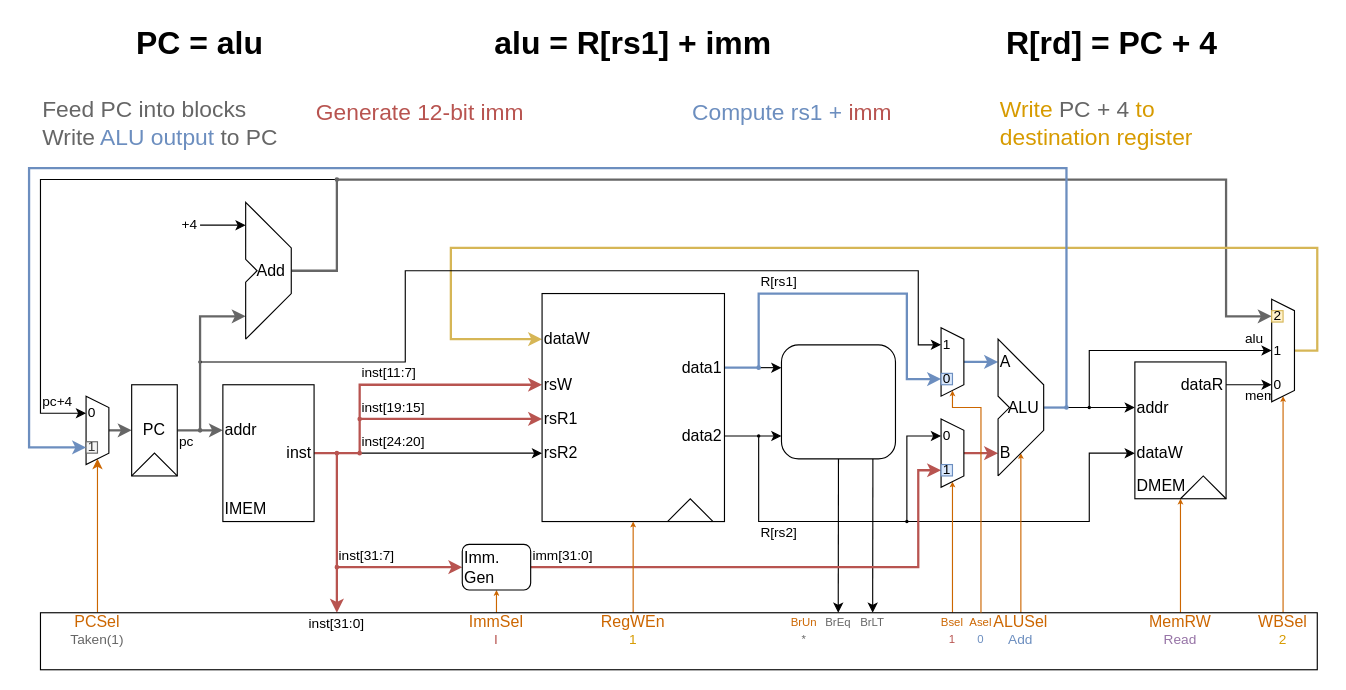
Image size: 1346x690. Some labels were removed from this diagram. The box of each missing label's shape, as (x1, y1, x2, y2) in pixels:
Branch Comp.: (780, 344, 895, 459)
Control Logic: (39, 612, 1317, 670)
RegFile: (541, 292, 724, 522)
